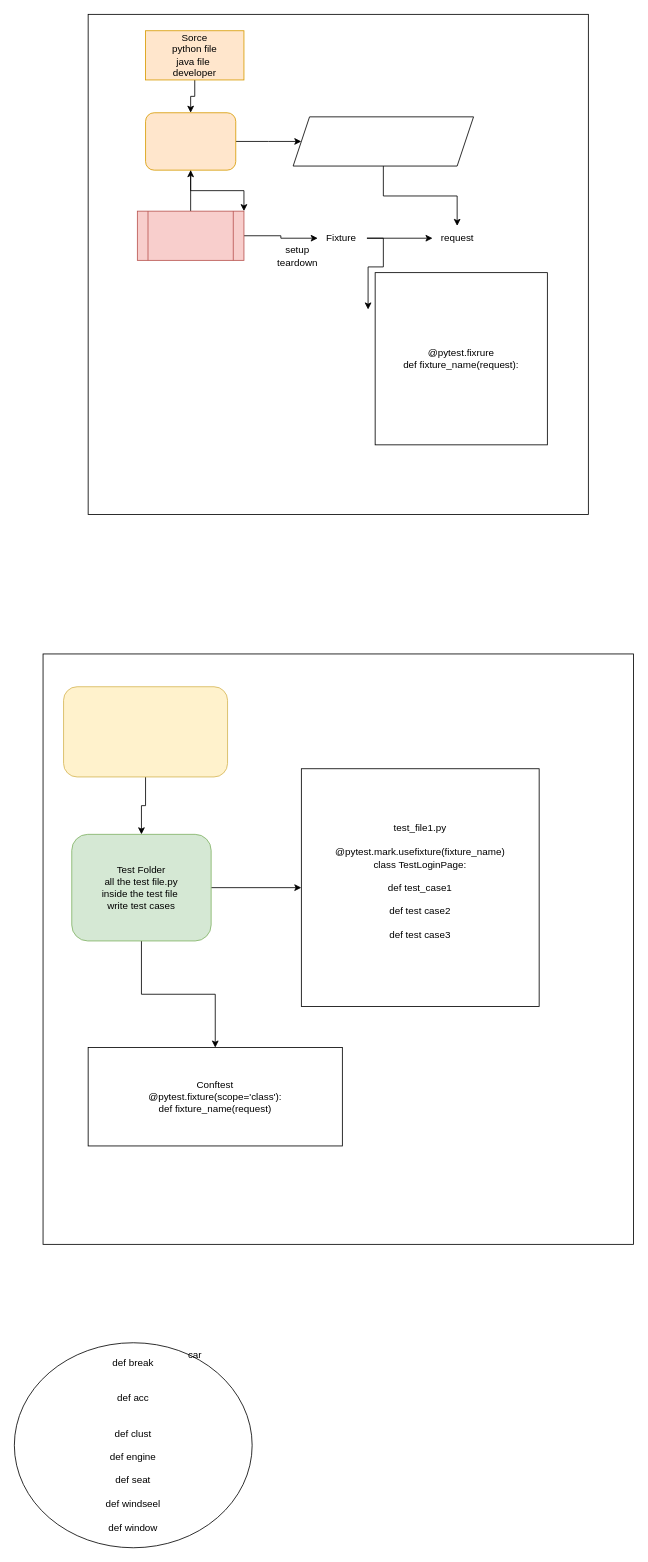
Image size: 648x1562. Some labels were removed from this diagram. Each missing label, with the box of its shape:
def test_func(fixture_name): (292, 116, 474, 166)
pythonfile conftest.py: (137, 210, 244, 260)
Source Folder python java file developer: (63, 686, 228, 777)
Test Folder test_files.py test_cases(fucntional class: (145, 112, 236, 170)
